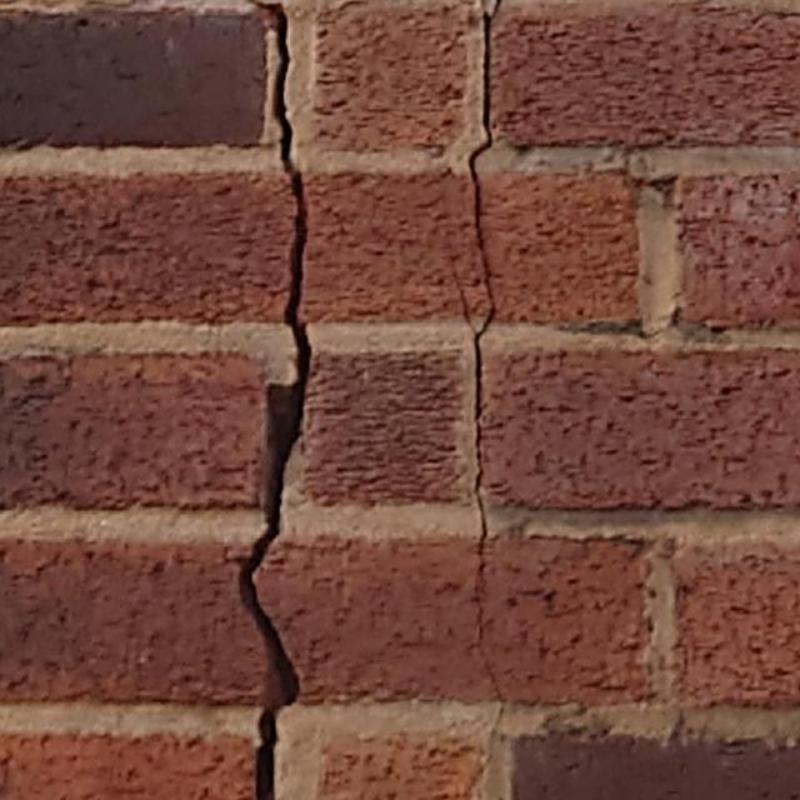pothole: (239, 0, 312, 799), (450, 0, 505, 765)
